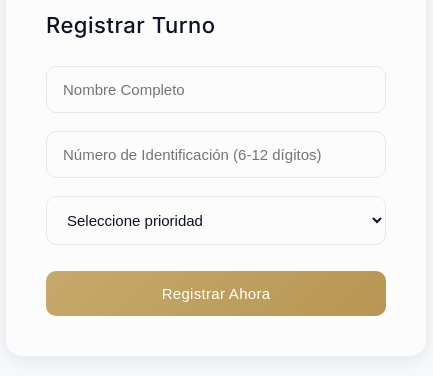
Scenario: AppointmentRegistrationForm › Form Validation › should show error for ID card longer than 12 digits
Type "John Doe" into the field with placeholder "Nombre Completo" at (216, 90), box [46,66,386,113]
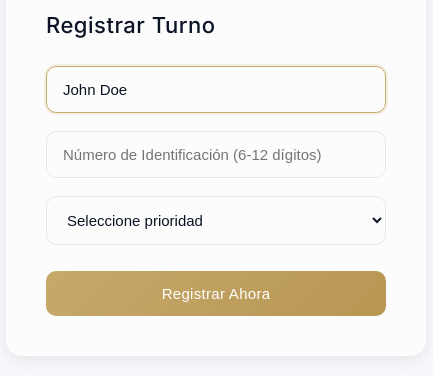
Type "123456789012345" into the field with placeholder "Número de Identificación (6-12 dígitos)" at (216, 154), box [46,131,386,178]
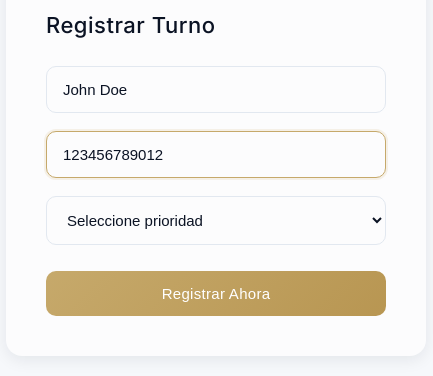
Expected: the 2nd field with placeholder "Número de Identificación (6-12 dígitos)" holds "123456789012", [46,131,386,178]
